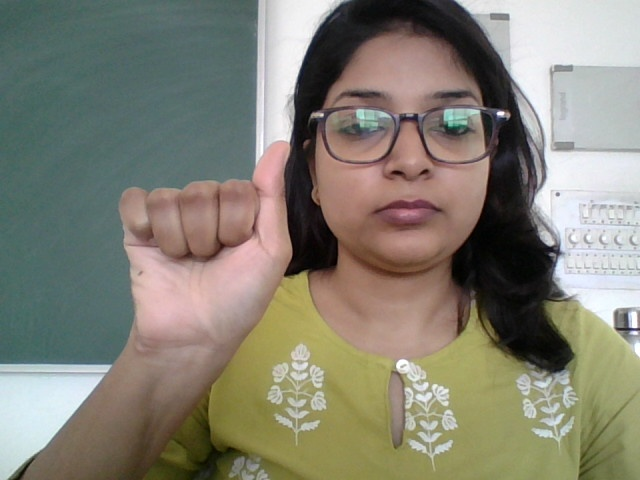A: (120, 135, 295, 369)
